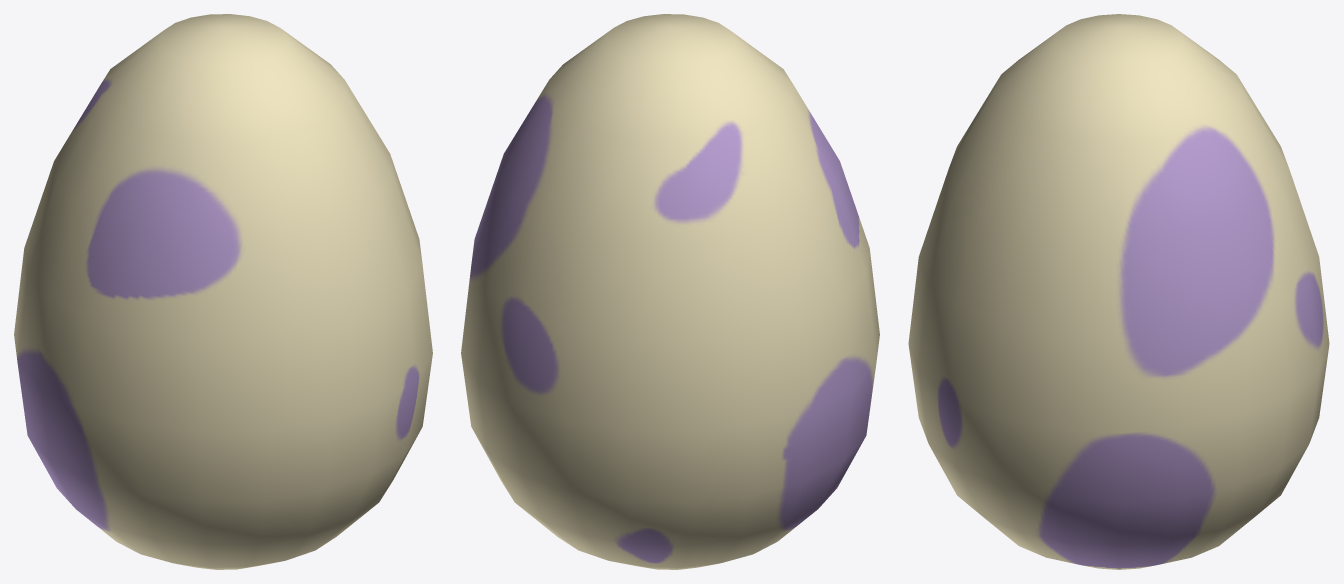
File: egg_islabosque_v1.FBX
The picture shows the model from 3 angles, left to right: view 1: azimuth 30°, elevation 25°; view 2: azimuth 150°, elevation 25°; view 3: azimuth 270°, elevation 25°; orthographic projection.
Visible parts, largest first — view 1: Sphere001; view 2: Sphere001; view 3: Sphere001.
Part boxes in pixels (x1,y1,x2,y2): Sphere001: (14,14,432,569); Sphere001: (461,14,879,569); Sphere001: (908,14,1329,569).
Bounding box in the file's own units: 18 × 24.7 × 18.
Materials: 1 (1 with a texture image).
